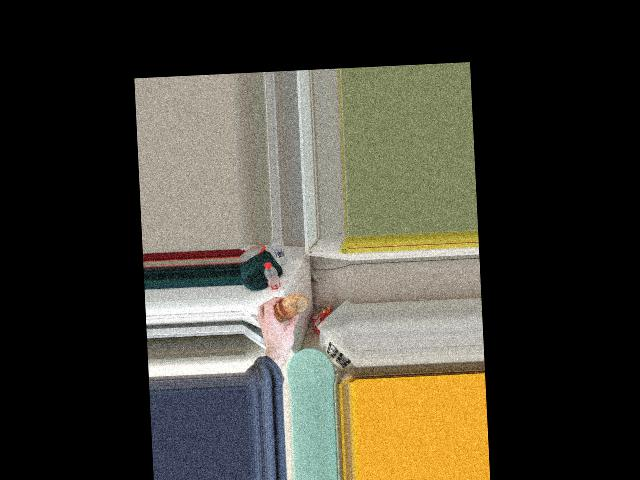sweet_potato: (273, 293, 302, 322)
